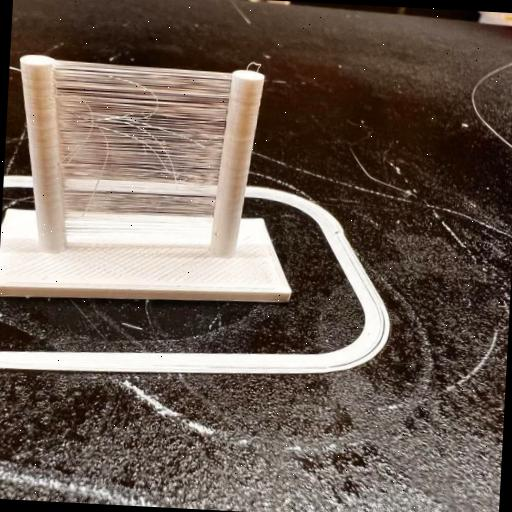stringing: (52, 63, 240, 220)
